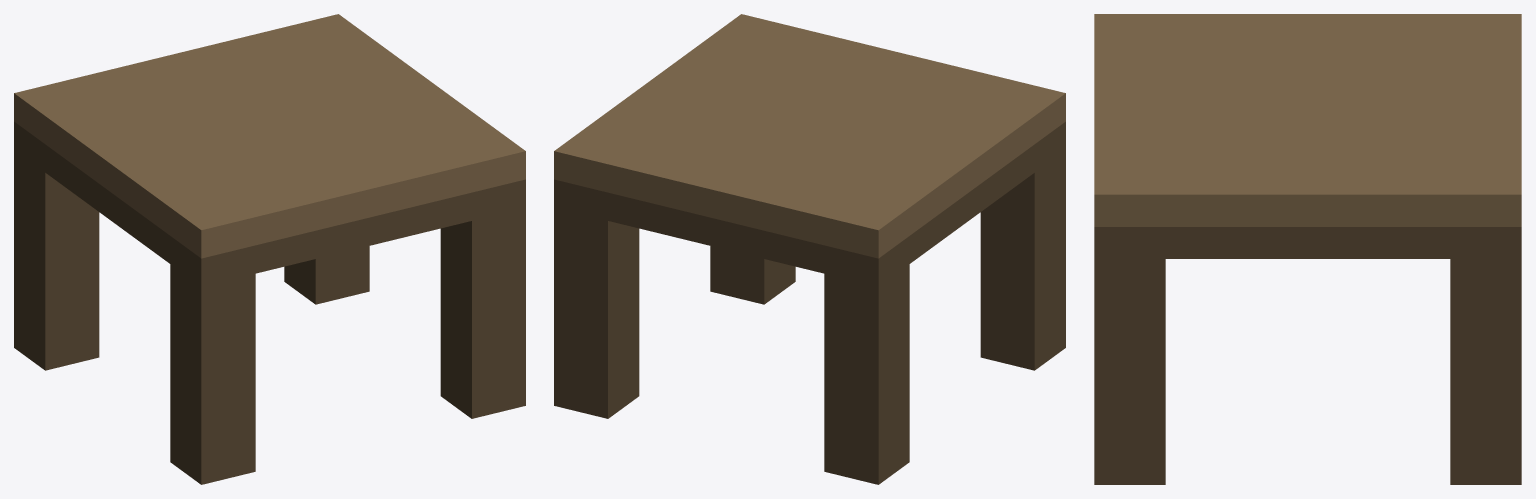
File: mesa_talla_fina_nogal_01.glb
The picture shows the model from 3 angles, left to right: view 1: azimuth 30°, elevation 25°; view 2: azimuth 150°, elevation 25°; view 3: azimuth 270°, elevation 25°; orthographic projection. The views are drawn at different scales.
Parts seen in each view (by area): view 1: mesa_talla_fina_nogal; view 2: mesa_talla_fina_nogal; view 3: mesa_talla_fina_nogal.
Boxes of the visible parts, <box> form: mesa_talla_fina_nogal: <box>14,14,525,484</box>; mesa_talla_fina_nogal: <box>554,14,1065,484</box>; mesa_talla_fina_nogal: <box>1094,14,1521,484</box>.
Size of the model in its own units: 1 by 0.75 by 1.
